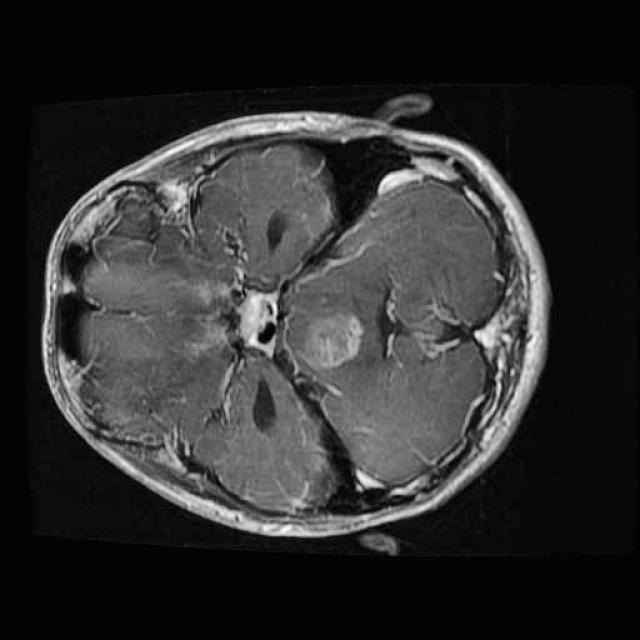Non-Tumor: (279, 285, 368, 379)
